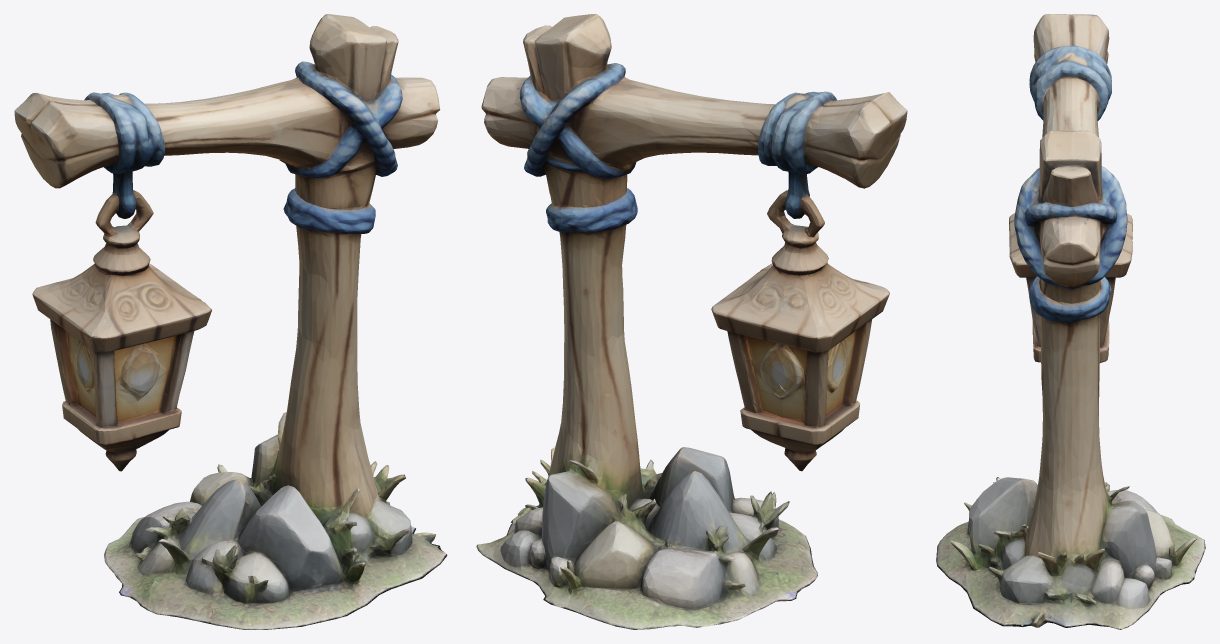
The model's file is ori.glb.
The picture shows the model from 3 angles, left to right: view 1: azimuth 30°, elevation 25°; view 2: azimuth 150°, elevation 25°; view 3: azimuth 270°, elevation 25°; orthographic projection. The views are drawn at different scales.
Visible parts, largest first — view 1: world; view 2: world; view 3: world.
Part boxes in pixels (<box>): world: <box>14,14,447,629</box>; world: <box>476,14,907,629</box>; world: <box>936,14,1205,629</box>.
Bounding box in the file's own units: 0.8041 × 0.9998 × 0.5259.
1 material, 1 textured.
